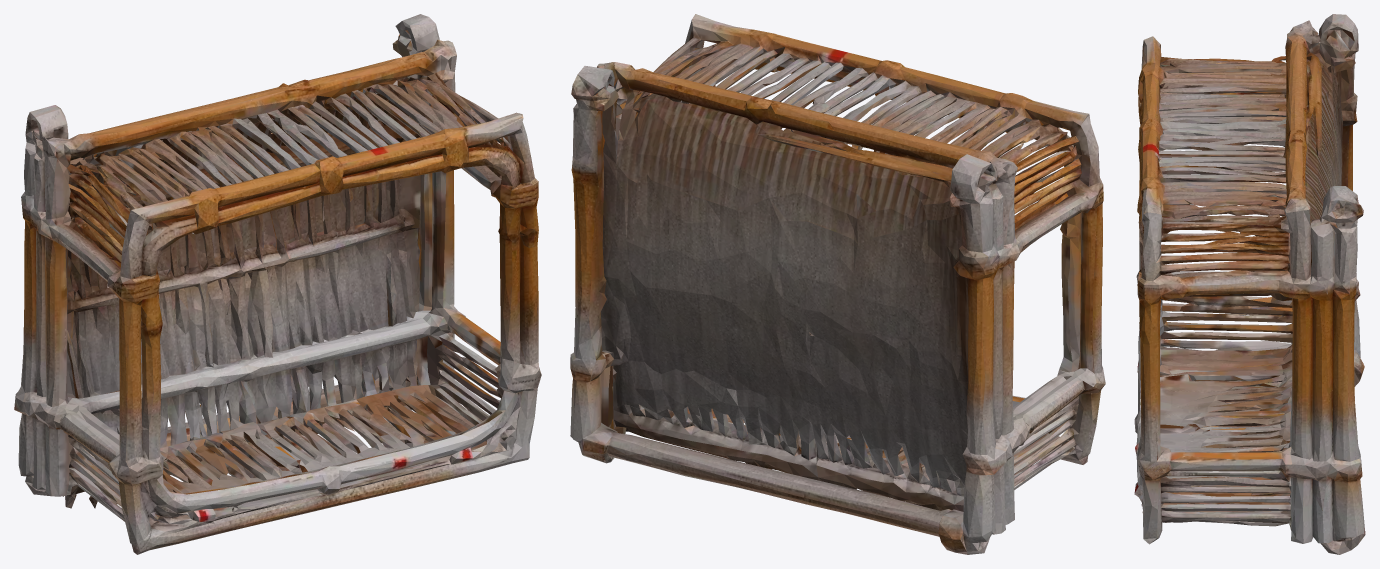
File: belly (223).glb
3 views of the same model, side by side, from view 1: azimuth 30°, elevation 25°; view 2: azimuth 150°, elevation 25°; view 3: azimuth 270°, elevation 25° (orthographic). The views are drawn at different scales.
Visible parts, largest first — view 1: Hy21_Mesh.obj; view 2: Hy21_Mesh.obj; view 3: Hy21_Mesh.obj.
Part boxes in pixels (x1,y1,x2,y2): Hy21_Mesh.obj: (14, 14, 541, 554); Hy21_Mesh.obj: (570, 14, 1105, 554); Hy21_Mesh.obj: (1134, 14, 1365, 554).
Bounding box in the file's own units: 1.96 × 1.74 × 0.981.
1 material, 1 textured.
